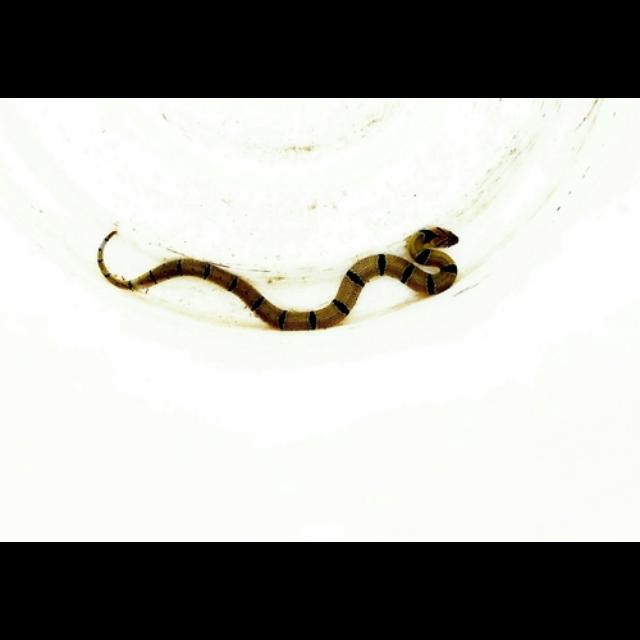snake: (98, 228, 462, 332)
